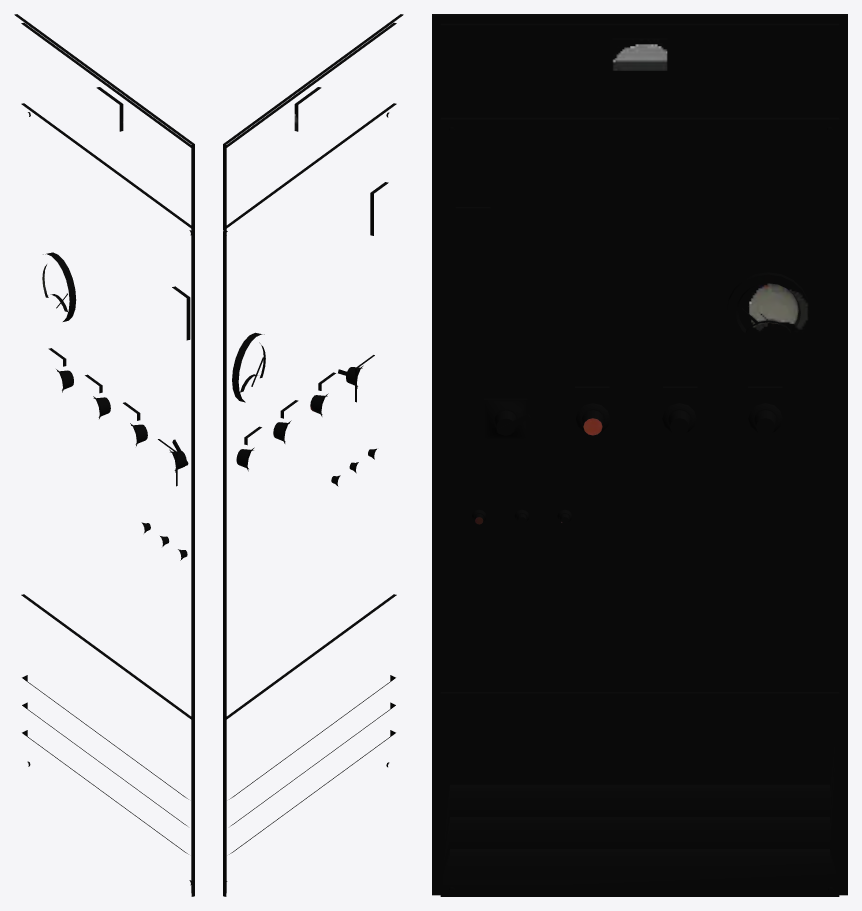
3 renders of one model, left to right at view 1: azimuth 30°, elevation 25°; view 2: azimuth 150°, elevation 25°; view 3: azimuth 270°, elevation 25°, orthographic. The views are drawn at different scales.
Visible parts, largest first — view 1: body0_model0_lod0_mesh0; view 2: body0_model0_lod0_mesh0; view 3: body0_model0_lod0_mesh0.
Part boxes in pixels (bbox=[...]): body0_model0_lod0_mesh0: bbox=[14, 14, 194, 896]; body0_model0_lod0_mesh0: bbox=[223, 14, 403, 896]; body0_model0_lod0_mesh0: bbox=[432, 14, 847, 896].
Bounding box in the file's own units: 3.79 × 112 × 47.99.
Materials: 1 (1 with a texture image).
